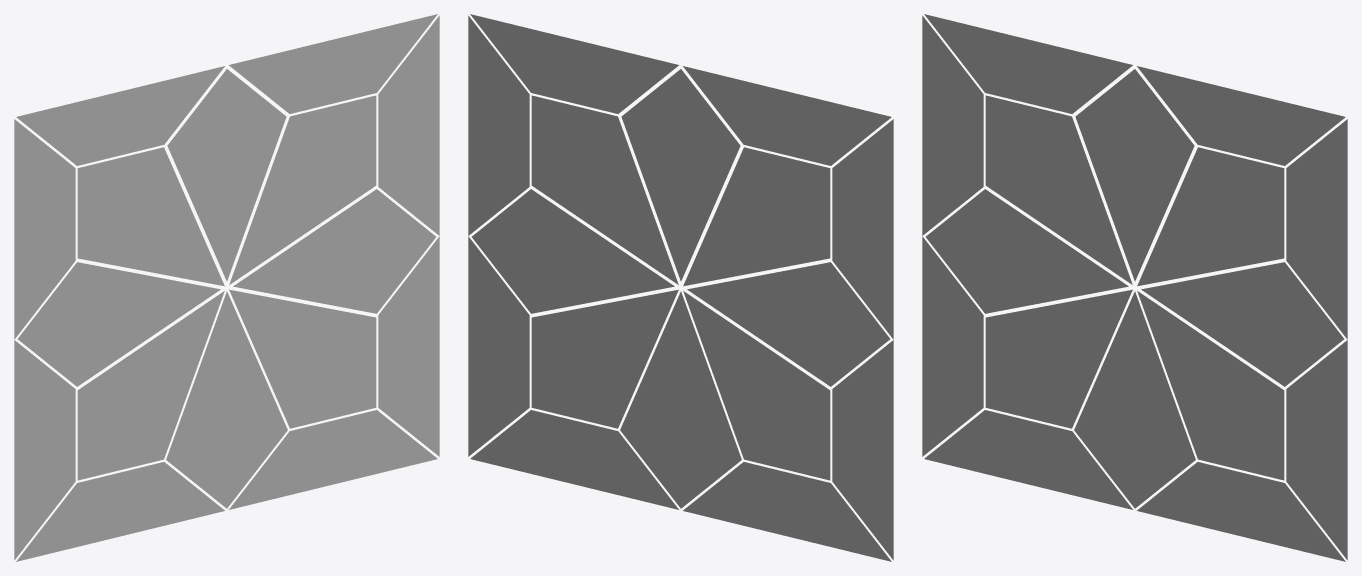
The model's file is geostar.gltf.
3 renders of one model, left to right at view 1: azimuth 30°, elevation 25°; view 2: azimuth 150°, elevation 25°; view 3: azimuth 330°, elevation 25°, orthographic.
Parts seen in each view (by area): view 1: geostar; view 2: geostar; view 3: geostar.
Part boxes in pixels (<box>): geostar: <box>14,14,439,561</box>; geostar: <box>468,14,893,561</box>; geostar: <box>922,14,1347,561</box>.
Size of the model in its own units: 305 by 305 by 0.
Materials: 16 (16 with a texture image).
